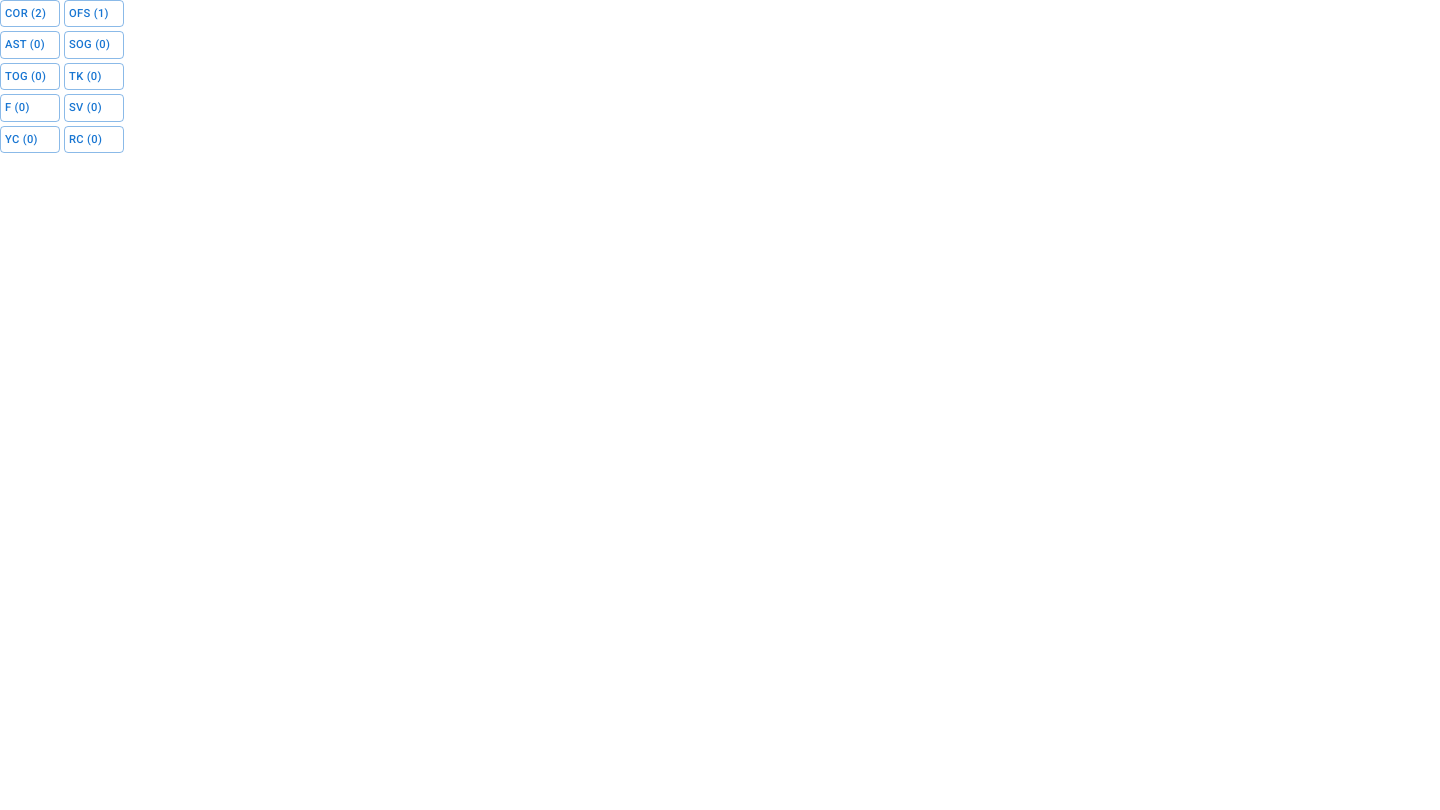
Test case: TeamStatGrid › long-pressing Cor opens a dialog with that team's corner log entries and does not record a corner
Press the mouse on the button "Cor (2)" at point(30, 14), box [0,0,60,27]
Wait 500 ms
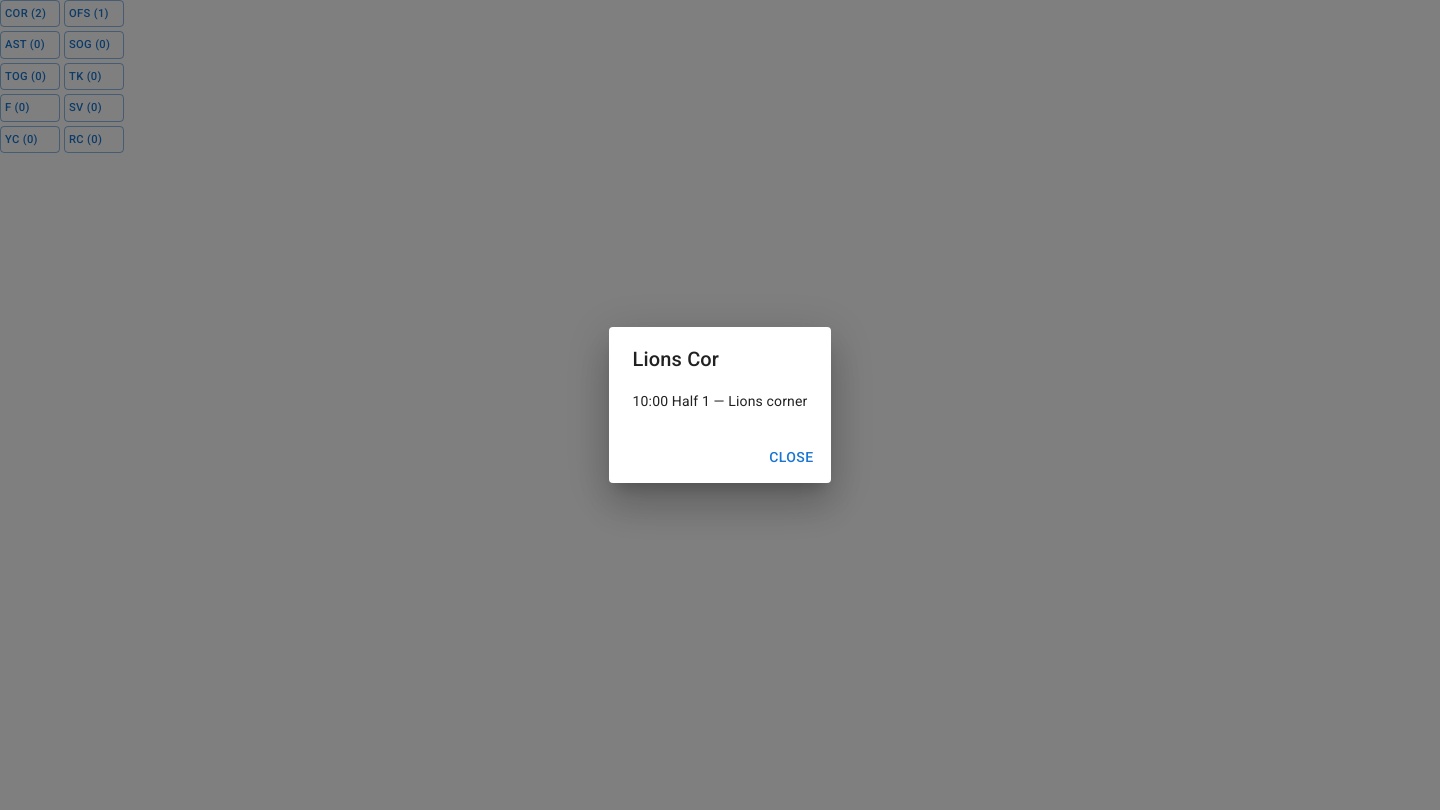
Expected: the dialog is shown, [609,327,831,483]
Expected: the heading "Lions Cor" is shown, [633,347,719,371]
Expected: the text "10:00 Half 1 — Lions corner" is shown, [633,391,807,411]
